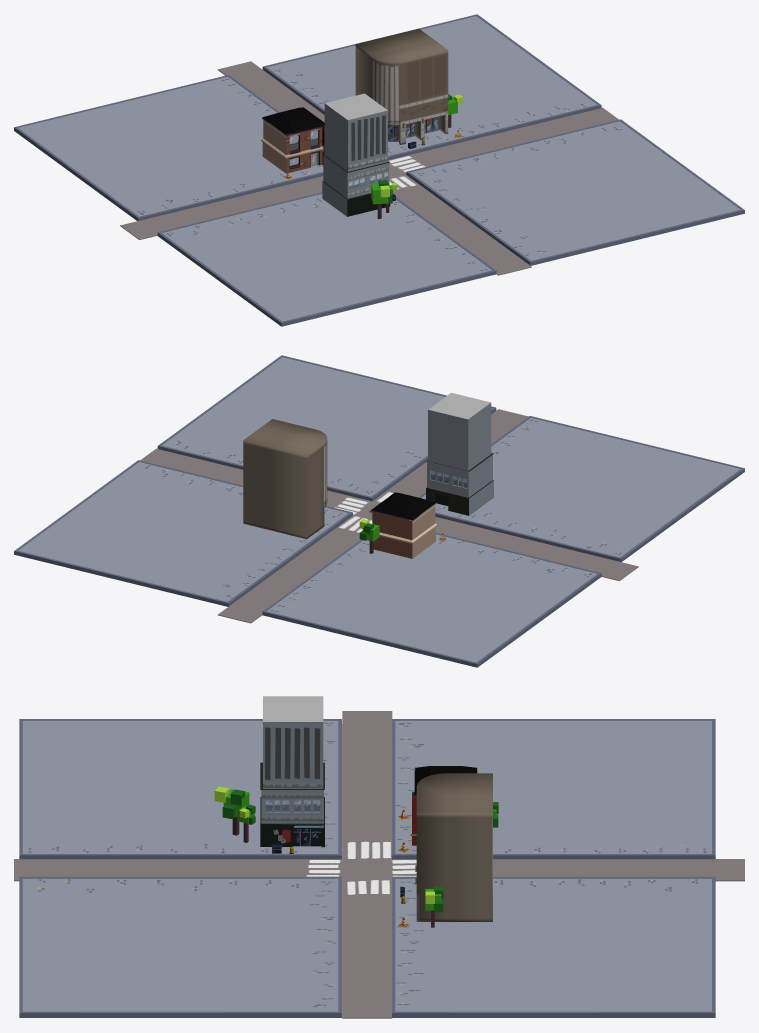
Rendered from testscene03.glb.
The picture shows the model from 3 angles, top to bottom: view 1: azimuth 30°, elevation 25°; view 2: azimuth 150°, elevation 25°; view 3: azimuth 270°, elevation 25°; orthographic projection. The views are drawn at different scales.
Visible parts, largest first — view 1: mainfloor, road, finefoods, shoppers, tims; view 2: mainfloor, road, finefoods, shoppers, tims; view 3: mainfloor, road, finefoods, shoppers, tims.
Part boxes in pixels (x1,y1,x2,y2): mainfloor: (14,14,744,326); road: (120,61,618,275); finefoods: (355,29,448,144); shoppers: (322,93,390,216); tims: (261,107,324,173); mainfloor: (14,355,744,667); road: (140,409,638,623); finefoods: (243,419,327,539); shoppers: (426,392,493,515); tims: (371,492,437,558); mainfloor: (19,719,715,1017); road: (14,711,744,1018); finefoods: (416,773,492,921); shoppers: (260,696,324,846); tims: (414,766,477,795).
Bounding box in the file's own units: 89.4 × 17.69 × 90.1.
13 materials, 8 textured.
